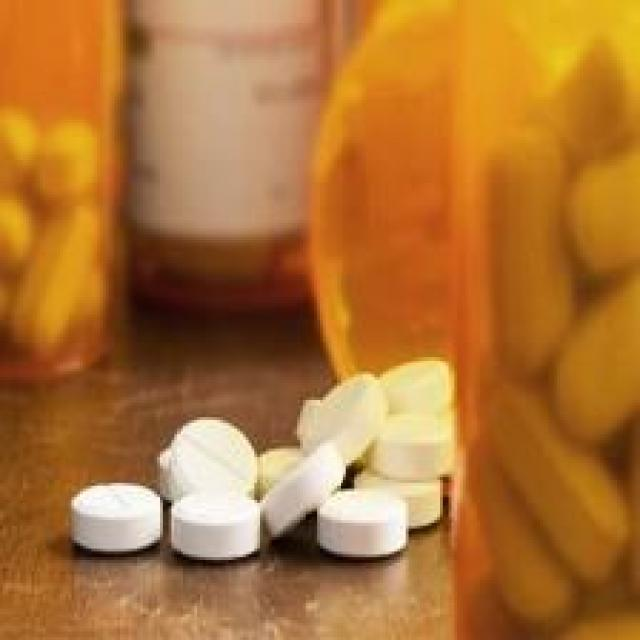Medicine: (62, 244, 508, 612)
